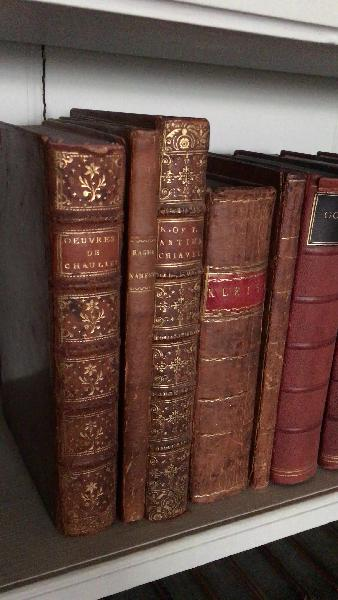Aa6-10: (250, 157, 301, 499)
Aa6-6: (44, 136, 128, 532)
Aa6-7: (124, 116, 158, 537)
Aa6-8: (151, 95, 204, 520)
Aa6-9: (188, 178, 277, 508)
